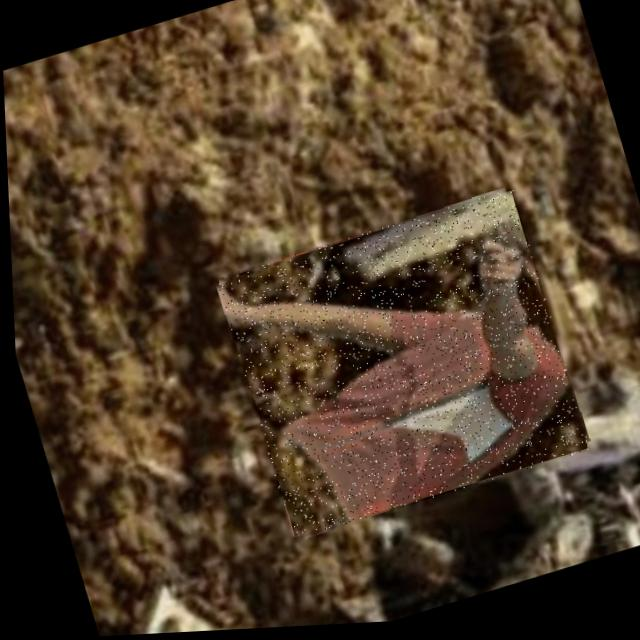Person in Rubble: (209, 190, 587, 545)
